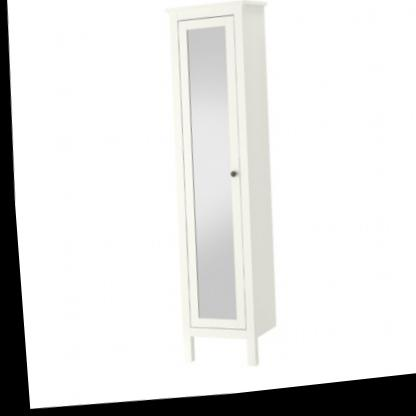Cabinet: (147, 0, 289, 381)
